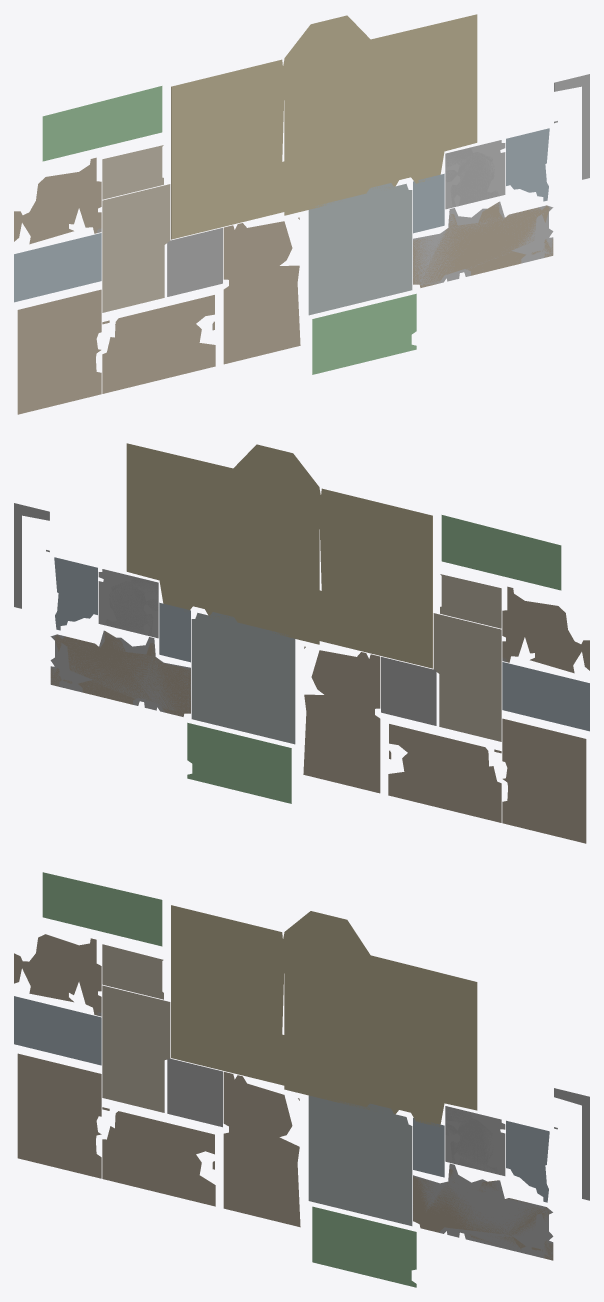
The picture shows the model from 3 angles, top to bottom: view 1: azimuth 30°, elevation 25°; view 2: azimuth 150°, elevation 25°; view 3: azimuth 330°, elevation 25°; orthographic projection.
Visible parts, largest first — view 1: LivingRoom_2072771920528, LivingRoom_2072771800544, Kitchen_2072772798864, Bedroom_2072772789552, Bedroom_2072771928928, Bedroom_2072771930704, Entry_2072771920624, Bedroom_2072771791040, Outdoor_2072771921920, Outdoor_2072771804144, Bedroom_2072771932528, Bath_2072771927296 (+8 smaller); view 2: LivingRoom_2072771920528, LivingRoom_2072771800544, Kitchen_2072772798864, Bedroom_2072772789552, Bedroom_2072771928928, Bedroom_2072771930704, Entry_2072771920624, Bedroom_2072771791040, Outdoor_2072771921920, Outdoor_2072771804144, Room_2072771802368, Bedroom_2072771932528 (+8 smaller); view 3: LivingRoom_2072771920528, LivingRoom_2072771800544, Kitchen_2072772798864, Bedroom_2072772789552, Bedroom_2072771928928, Bedroom_2072771930704, Entry_2072771920624, Room_2072771802368, Outdoor_2072771921920, Outdoor_2072771804144, Bedroom_2072771932528, Bath_2072771927296 (+8 smaller).
Boxes of the visible parts, x1,y1,x2,y2 form: LivingRoom_2072771920528: (284, 14, 477, 215); LivingRoom_2072771800544: (171, 55, 299, 239); Kitchen_2072772798864: (308, 183, 412, 315); Bedroom_2072772789552: (223, 221, 300, 364); Bedroom_2072771928928: (17, 289, 101, 414); Bedroom_2072771930704: (102, 295, 215, 393); Entry_2072771920624: (102, 184, 170, 312); Bedroom_2072771791040: (413, 202, 549, 287); Outdoor_2072771921920: (312, 293, 416, 374); Outdoor_2072771804144: (42, 86, 162, 161); Bedroom_2072771932528: (14, 157, 101, 244); Bath_2072771927296: (14, 233, 101, 302); LivingRoom_2072771920528: (126, 443, 319, 644); LivingRoom_2072771800544: (304, 484, 432, 668); Kitchen_2072772798864: (191, 612, 295, 744); Bedroom_2072772789552: (303, 650, 380, 793); Bedroom_2072771928928: (502, 718, 586, 843); Bedroom_2072771930704: (388, 724, 501, 822); Entry_2072771920624: (433, 613, 501, 741); Bedroom_2072771791040: (54, 631, 190, 716); Outdoor_2072771921920: (187, 722, 291, 803); Outdoor_2072771804144: (441, 515, 561, 590); Room_2072771802368: (50, 630, 190, 716); Bedroom_2072771932528: (502, 586, 589, 673); LivingRoom_2072771920528: (284, 911, 477, 1126); LivingRoom_2072771800544: (171, 905, 298, 1085); Kitchen_2072772798864: (308, 1095, 412, 1225); Bedroom_2072772789552: (223, 1072, 300, 1227); Bedroom_2072771928928: (17, 1053, 101, 1178); Bedroom_2072771930704: (102, 1111, 215, 1206); Entry_2072771920624: (102, 985, 170, 1112); Room_2072771802368: (413, 1163, 553, 1259); Outdoor_2072771921920: (312, 1206, 416, 1287); Outdoor_2072771804144: (42, 872, 162, 946); Bedroom_2072771932528: (14, 934, 101, 1016); Bath_2072771927296: (14, 996, 101, 1065).
Bounding box in the file's own units: 15.76 × 9.18 × 0.001.
